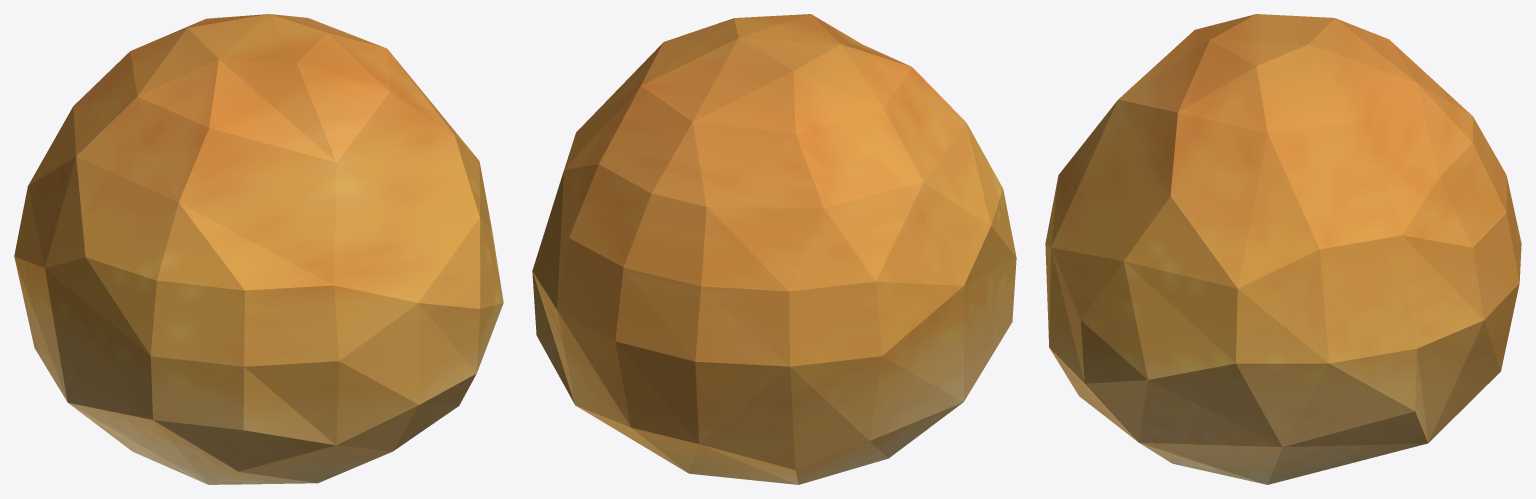
The model's file is spider-egg-broken-lod2.glb.
3 views of the same model, side by side, from view 1: azimuth 30°, elevation 25°; view 2: azimuth 150°, elevation 25°; view 3: azimuth 270°, elevation 25° (orthographic).
Parts seen in each view (by area): view 1: spider-egg-broken-lod2; view 2: spider-egg-broken-lod2; view 3: spider-egg-broken-lod2.
Boxes of the visible parts, bbox=[...] form: spider-egg-broken-lod2: bbox=[14, 14, 503, 484]; spider-egg-broken-lod2: bbox=[532, 14, 1016, 484]; spider-egg-broken-lod2: bbox=[1045, 14, 1521, 484].
Size of the model in its own units: 3.91 by 3.87 by 3.97.
Materials: 1 (1 with a texture image).
